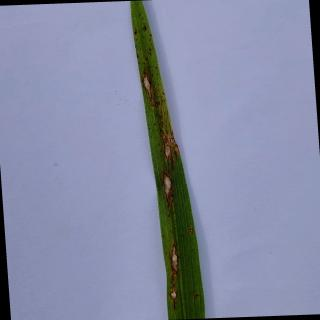Blast: (169, 242, 181, 284), (162, 175, 175, 207), (142, 70, 154, 104), (169, 284, 179, 308), (163, 135, 170, 161), (169, 125, 176, 145), (189, 226, 195, 236)
